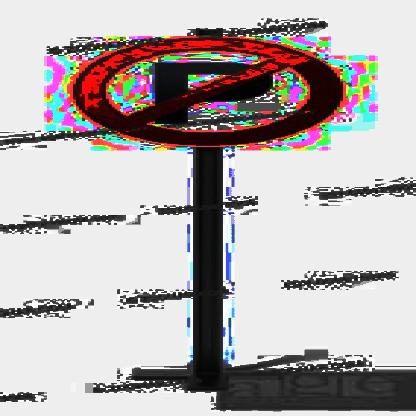No parking: (63, 33, 343, 148)
